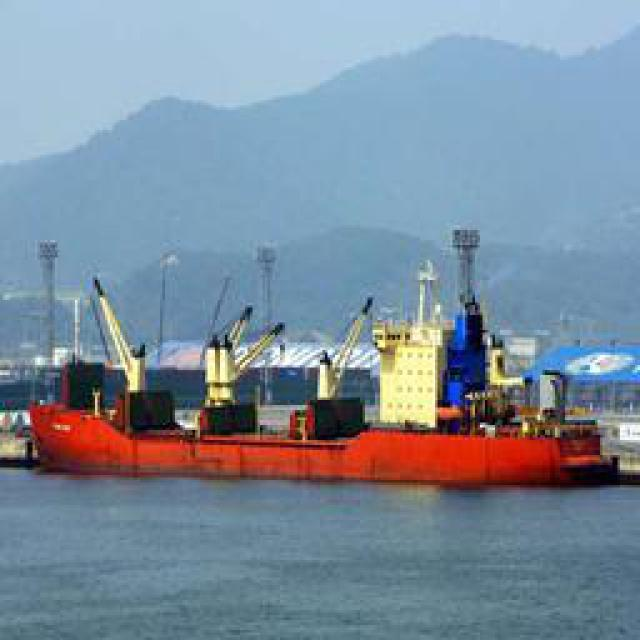Ship: (14, 348, 634, 493)
